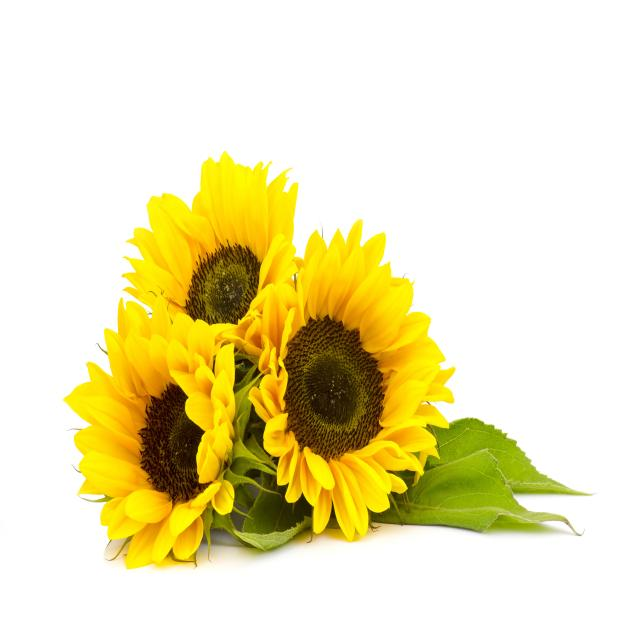sunflower: (247, 217, 463, 532), (50, 308, 246, 570), (119, 115, 304, 348)
